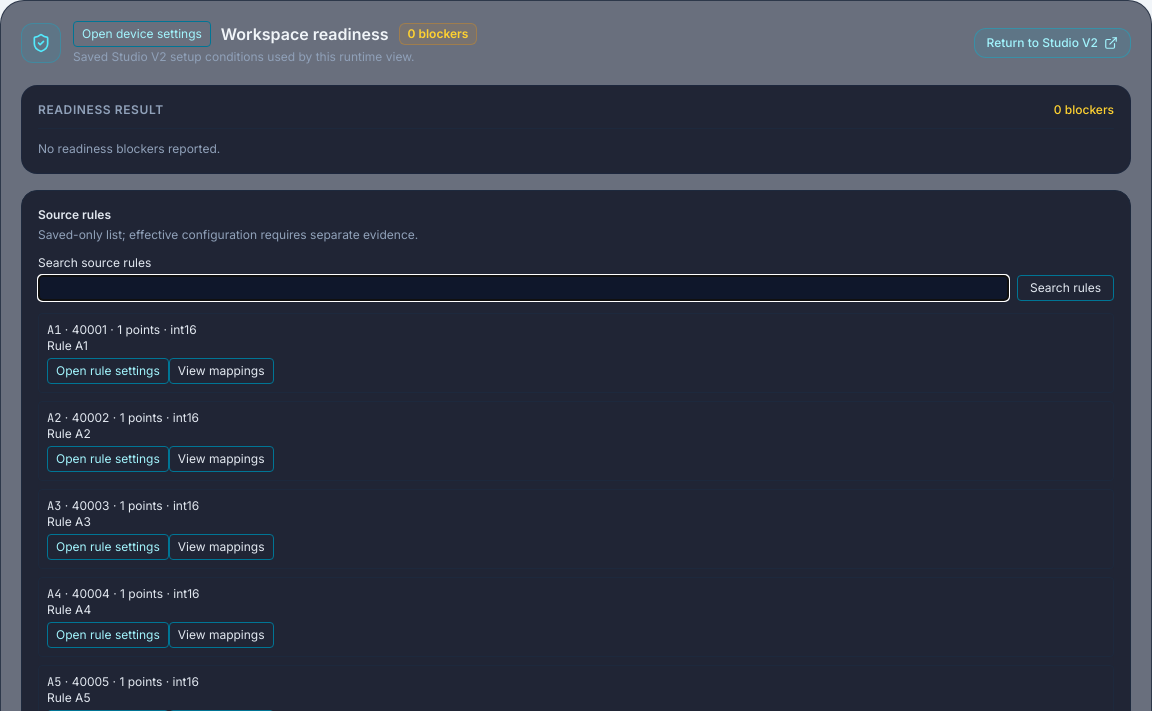
Scenario: bounded runtime source lists › submits bounded search without per-keystroke requests, then filters mappings by exact parent revision
The image size is (1152, 711).
Expected: the button with aria-label "Show mappings for A1" is shown, [169, 358, 274, 384]
Type "A6" into the field labelled "Search source rules" at coordinates (524, 288), box [38, 275, 1009, 301]
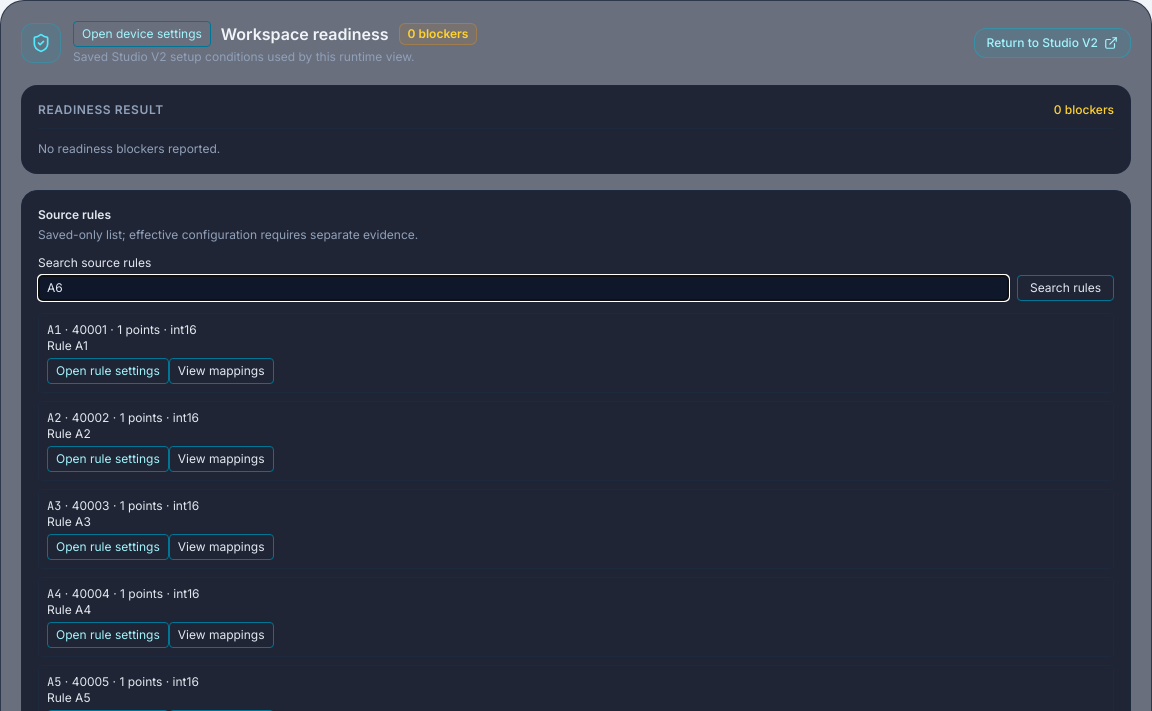
Submit the form "Search source rules", box [38, 255, 1114, 301]
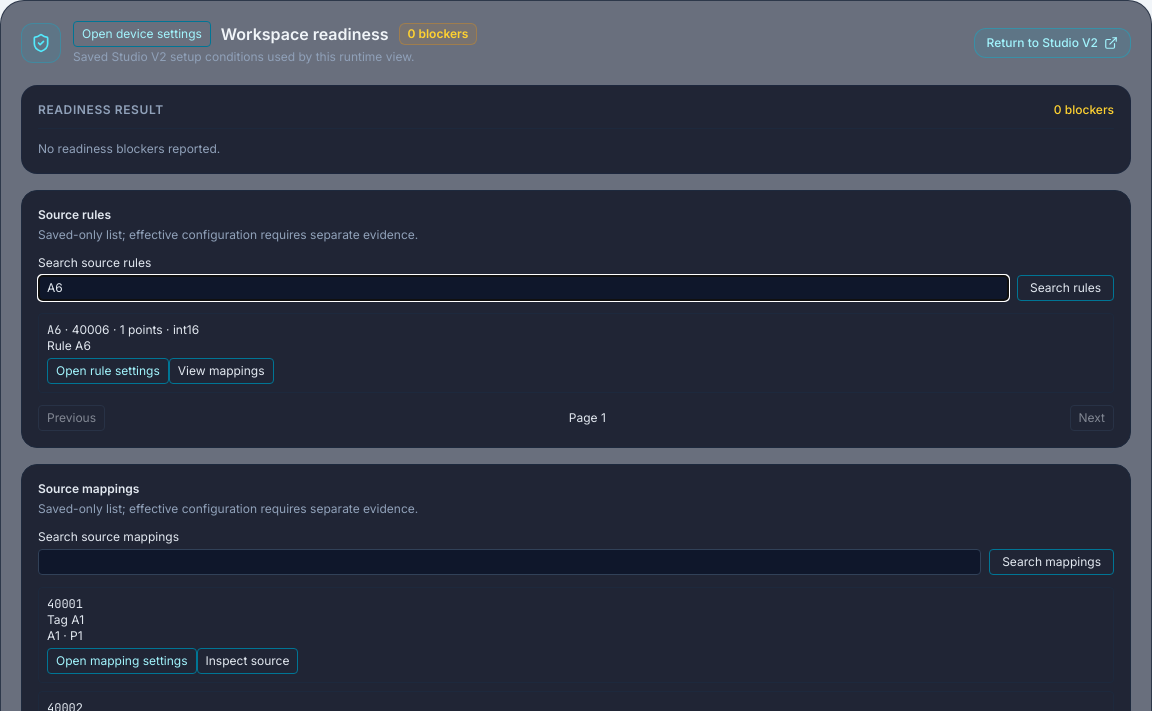
Click the button with aria-label "Show mappings for A6" at coordinates (221, 371), box [169, 358, 274, 384]
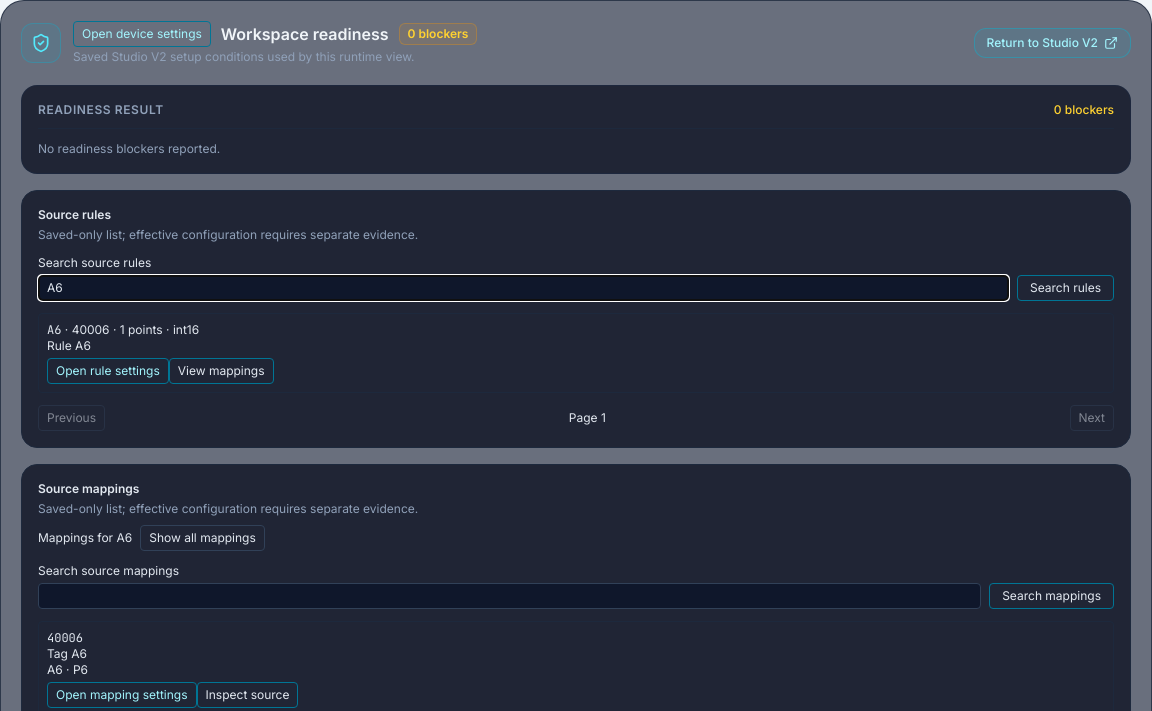
Expected: the text "Mappings for A6" is shown, [38, 530, 132, 546]
Click the button "Show all mappings" at coordinates (203, 538), box [140, 525, 265, 551]
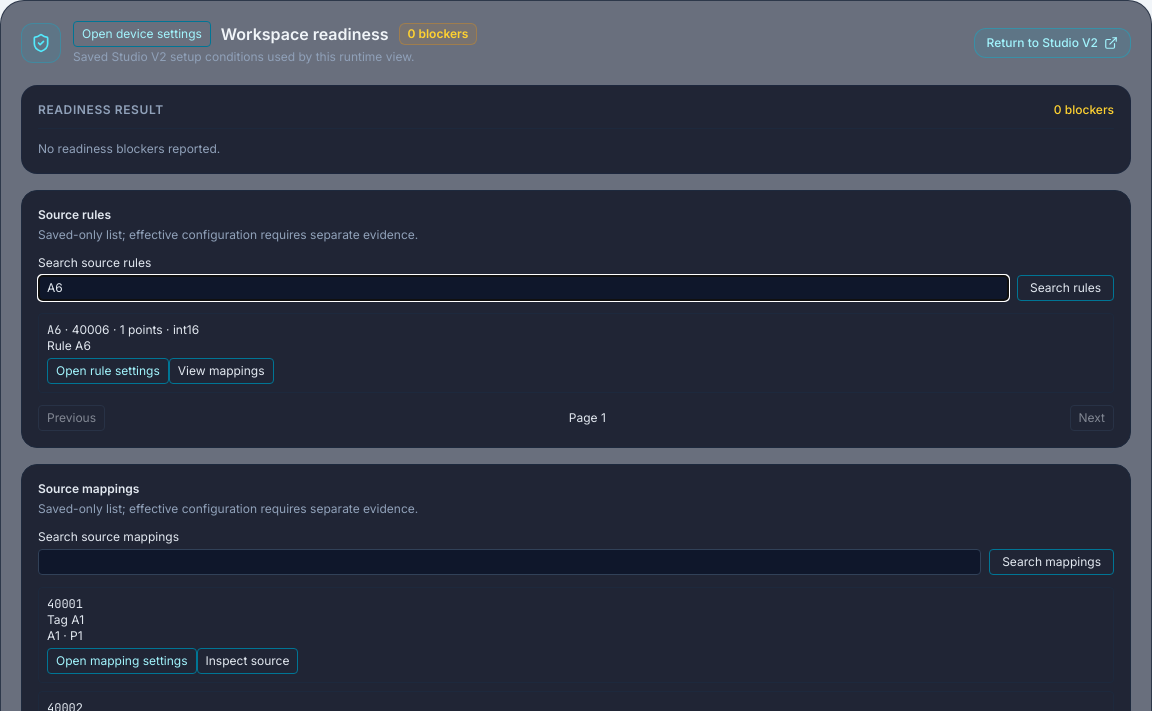
Expected: the button with aria-label "Inspect source 40001" is shown, [196, 648, 298, 674]
